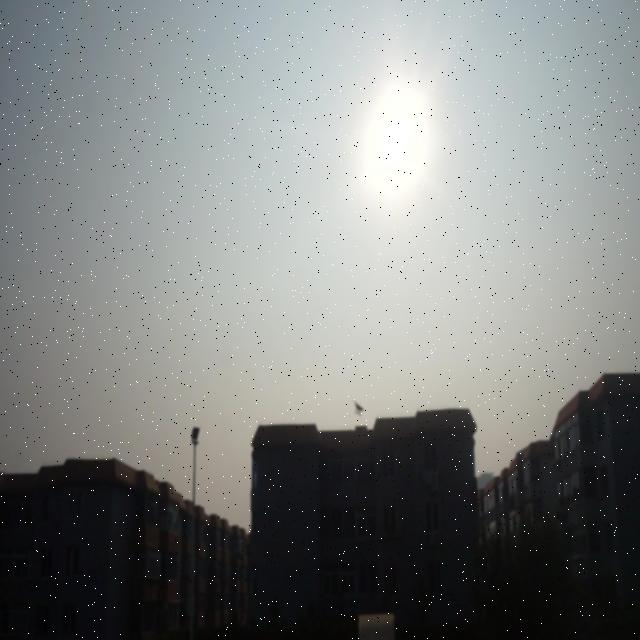UAV: (354, 400, 365, 418)
